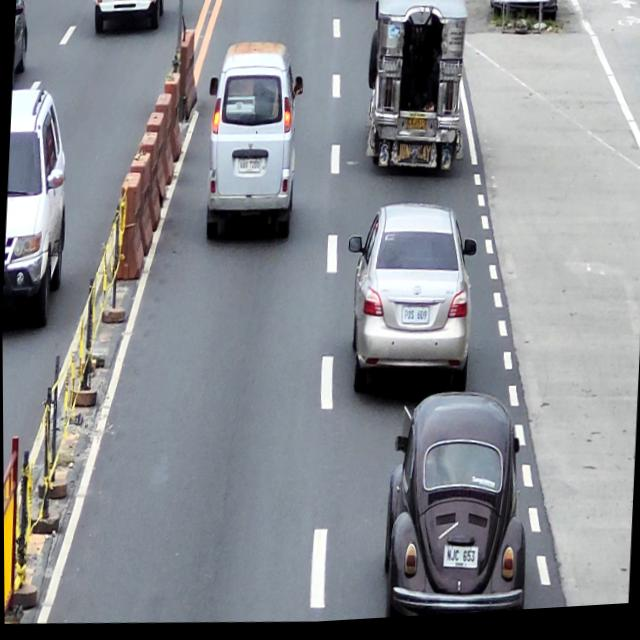Car: (377, 390, 534, 623), (339, 201, 480, 409), (201, 40, 306, 248), (1, 86, 72, 326), (12, 0, 31, 83)
Jeep: (362, 0, 471, 183)
License-Plate: (443, 550, 479, 577), (401, 311, 430, 330), (238, 160, 262, 175), (406, 121, 427, 137), (116, 0, 133, 1)
